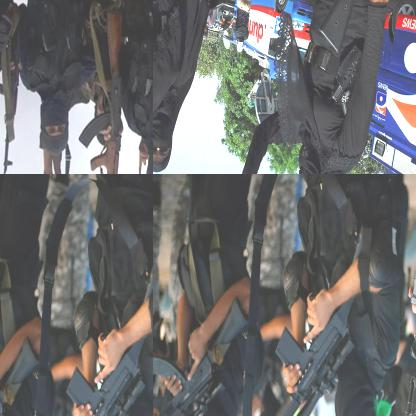rifle: (213, 300, 356, 415), (4, 340, 147, 415), (153, 304, 240, 415), (77, 9, 127, 173), (317, 0, 415, 54), (0, 22, 21, 173)
